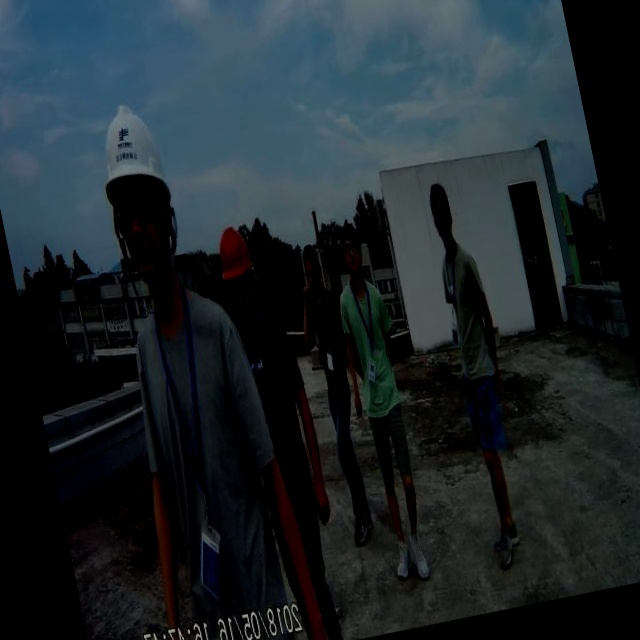Con_Casco: (88, 98, 189, 297)
Sin_Casco_Mascarrilla: (335, 221, 367, 278)
Sin_Chaleco: (335, 275, 402, 409)
